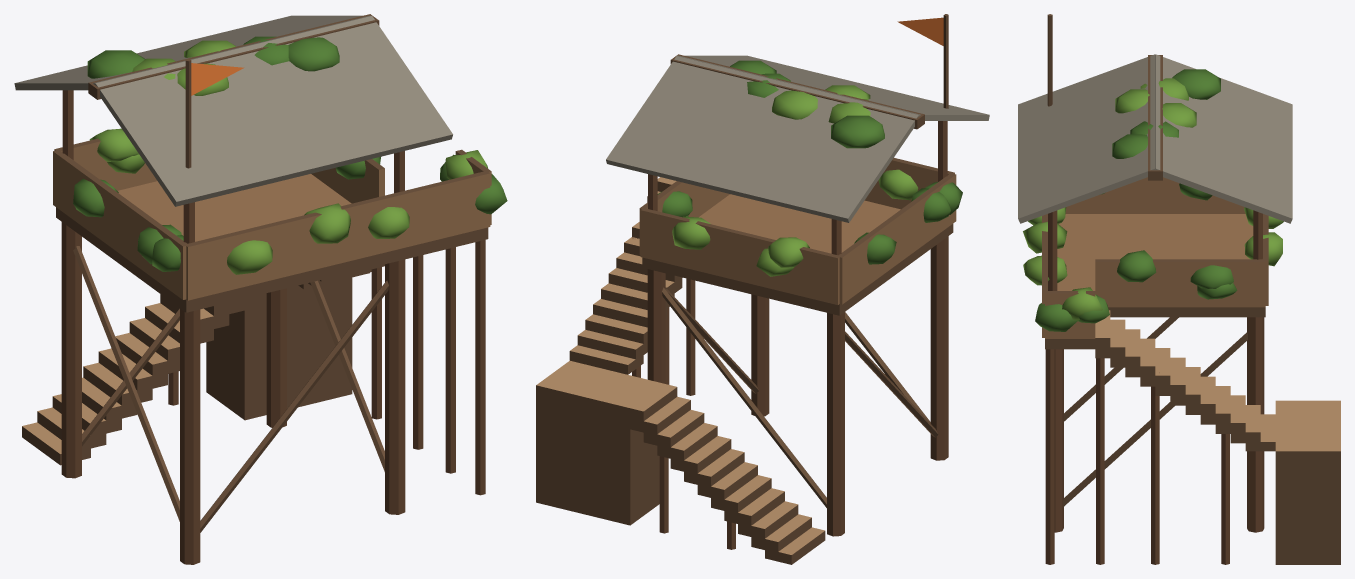
File: hunter_watchtower.glb
3 views of the same model, side by side, from view 1: azimuth 30°, elevation 25°; view 2: azimuth 150°, elevation 25°; view 3: azimuth 270°, elevation 25° (orthographic). The views are drawn at different scales.
Parts seen in each view (by area): view 1: LOD0; view 2: LOD0; view 3: LOD0.
Boxes of the visible parts, <box> form: LOD0: <box>14,14,507,564</box>; LOD0: <box>536,14,989,564</box>; LOD0: <box>1018,14,1340,564</box>.
Size of the model in its own units: 6.91 by 9.4 by 6.44.
Materials: 1 (1 with a texture image).
